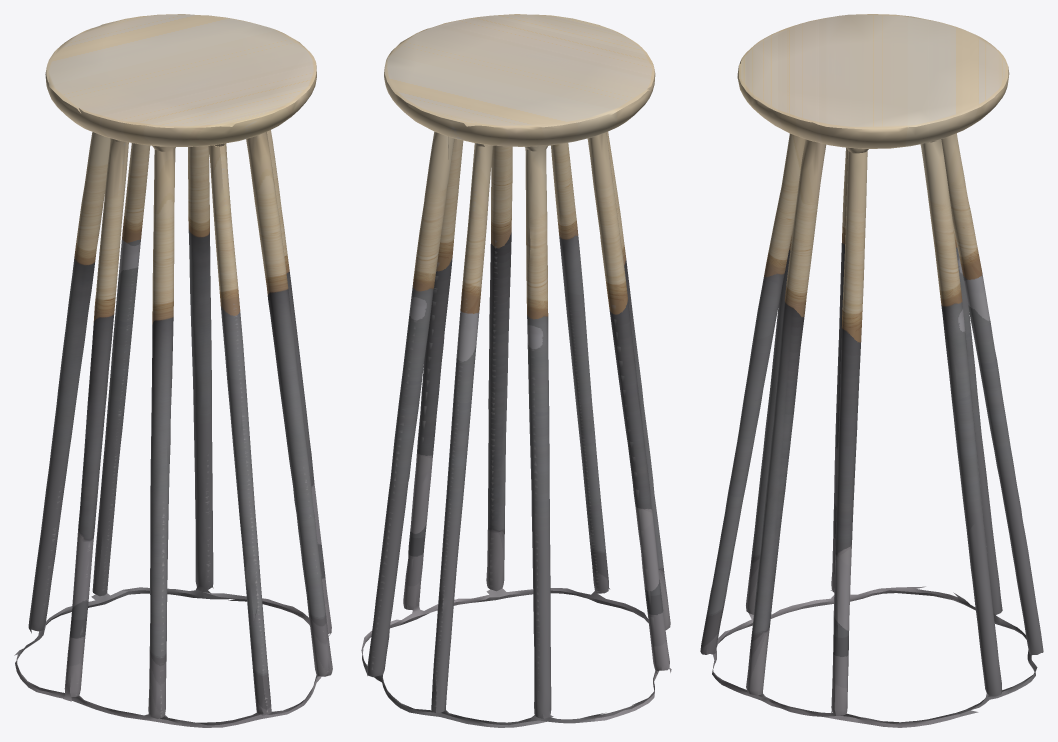
Rendered from side-table.glb.
The picture shows the model from 3 angles, left to right: view 1: azimuth 30°, elevation 25°; view 2: azimuth 150°, elevation 25°; view 3: azimuth 270°, elevation 25°; orthographic projection.
Visible parts, largest first — view 1: Mesh_0; view 2: Mesh_0; view 3: Mesh_0.
Boxes of the visible parts, x1=… form: Mesh_0: x1=14, y1=14, x2=332, y2=727; Mesh_0: x1=361, y1=14, x2=671, y2=727; Mesh_0: x1=700, y1=14, x2=1043, y2=727.
Bounding box in the file's own units: 0.2437 × 0.4992 × 0.2618.
Materials: 1 (1 with a texture image).
